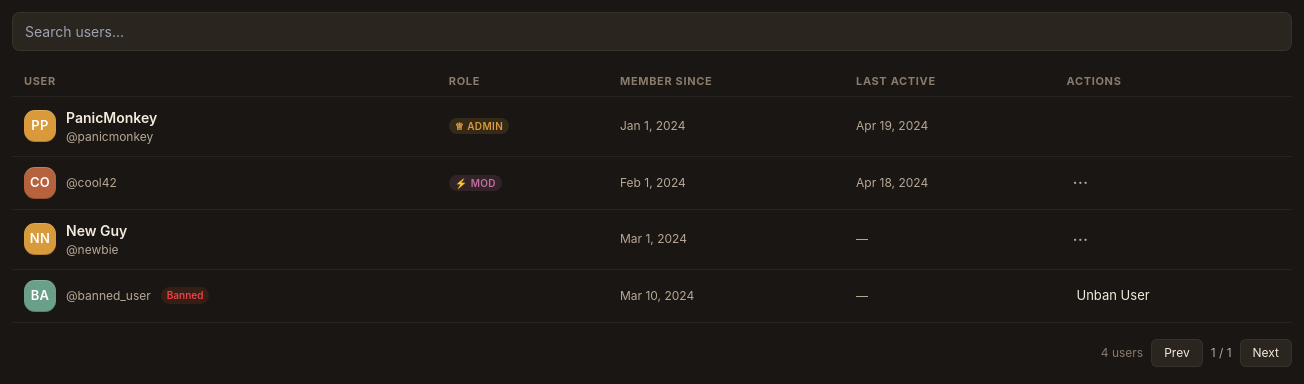
Test: UserTable — search › filters rows by role
The image size is (1304, 384).
Type "moderator" into the field with class "user-search" at (652, 32), box [12,12,1292,51]
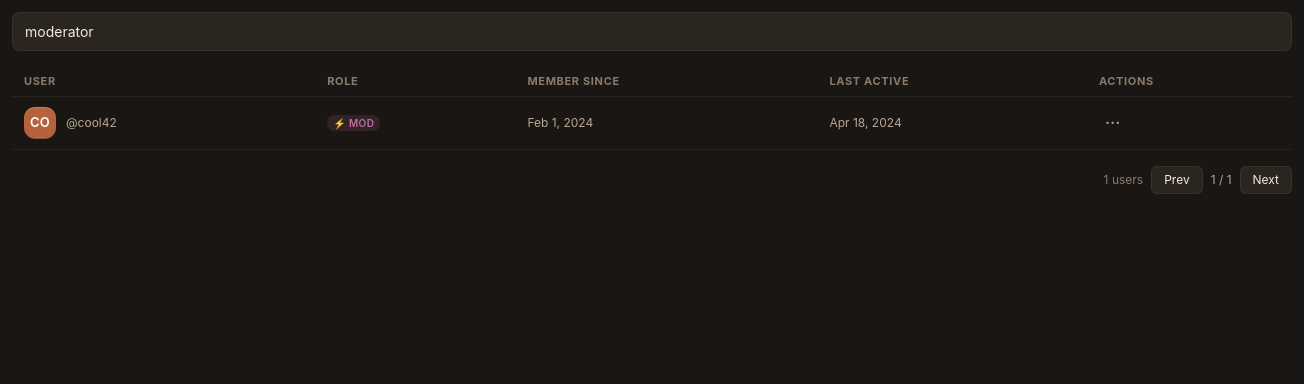
Expected: the text "@cool42" is shown, [66,114,117,132]
Result: the number of rows with class "user-row" is 1 at [12,96,1292,149]
Replace the text in the field with class "user-search" with "admin" at (652, 32), box [12,12,1292,51]
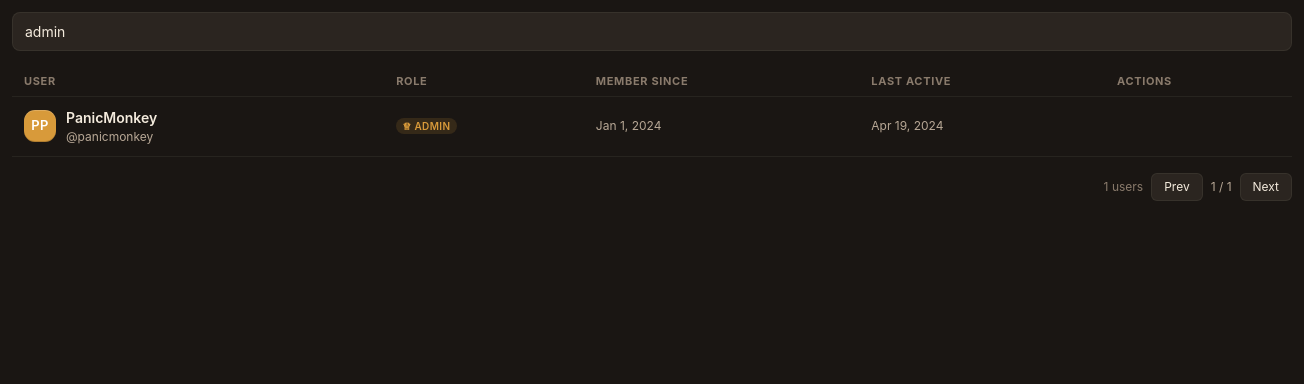
Result: the number of rows with class "user-row" is 1 at [12,96,1292,156]
Result: the text "@panicmonkey" is shown at [66,128,157,146]
